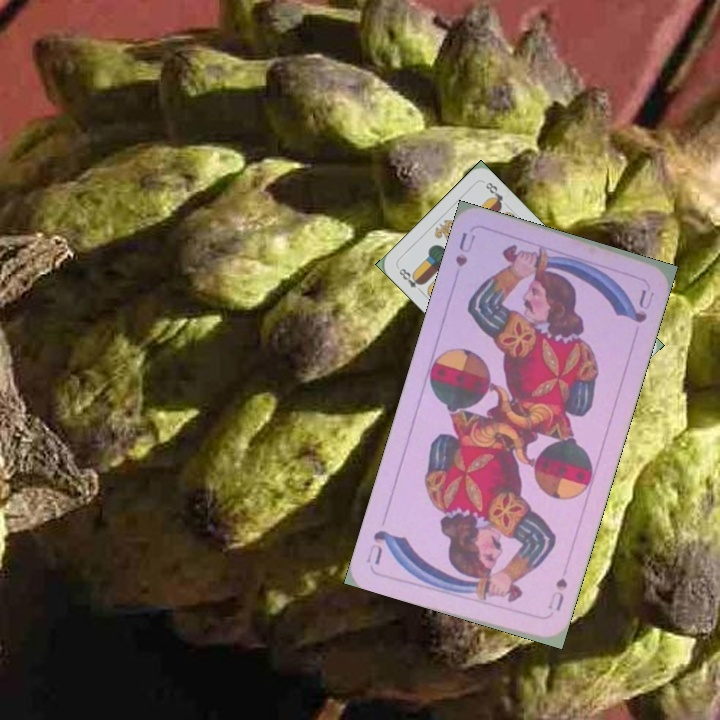E8: (395, 264, 426, 296)
SU: (451, 227, 478, 270), (544, 574, 570, 614)
